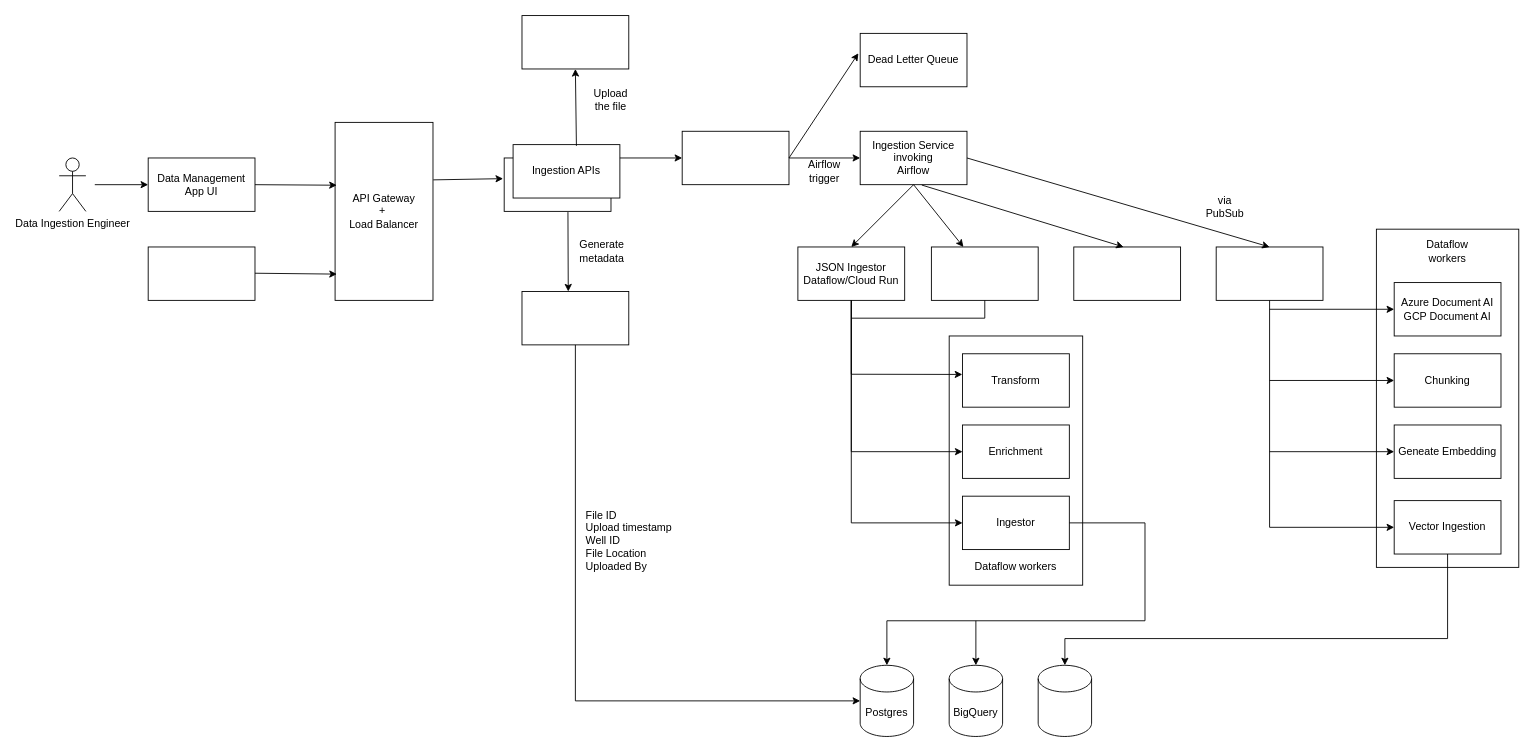
The diagram is 1534 pixels wide and 752 high, and some of its shapes have lost their labels. Here are the shapes that lost their labels. From the top down, the centre of each, then its label:
At point (575, 42): "GCS".
At point (735, 157): "GCP Pub/Sub".
At point (201, 273): "Data Ingestion Pipelines".
At point (984, 273): "CSV Ingestor Dataflow/Cloud Run".
At point (1127, 273): "LAS Ingestor Dataflow".
At point (1269, 273): "OCR Ingestion Dataflow".
At point (575, 318): "Metadata service".
At point (1064, 700): "Milvus".
